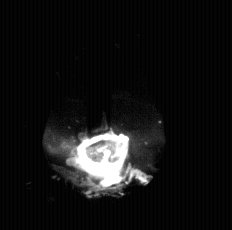arame: (87, 0, 111, 138)
poca: (41, 0, 164, 230)
